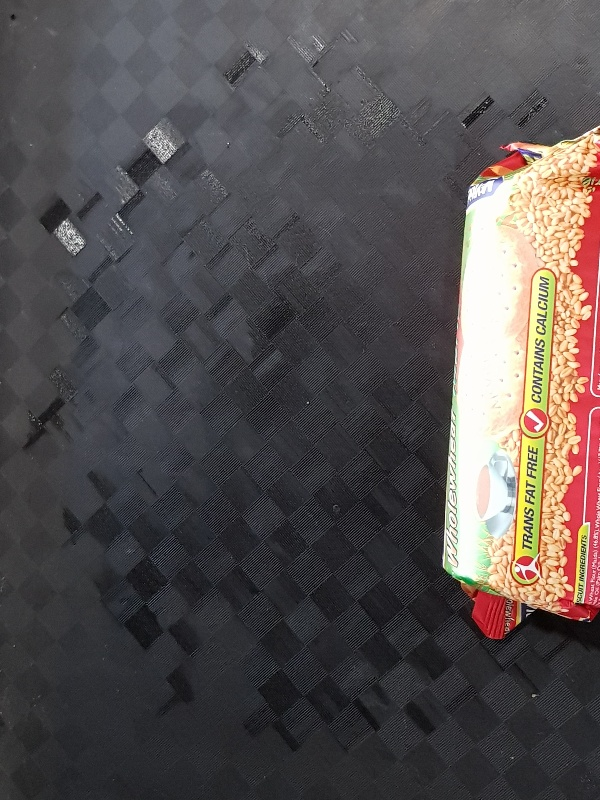McVitie's Wholewheat Marie: (442, 121, 600, 643)
